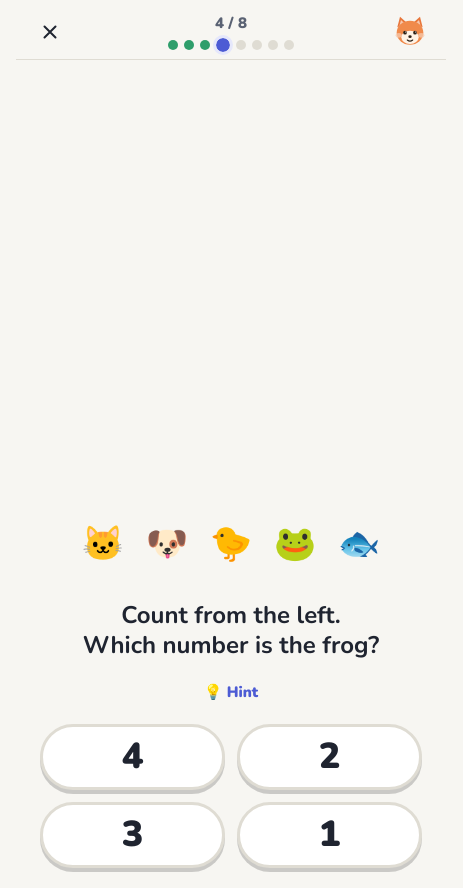
QuestionScreen — Hint harus benar-benar menolong › Hint dari langkah aksi tampil sebagai contoh yang sudah dikerjakan
Click the button "💡 Hint" at (231, 692), box [188, 668, 274, 716]
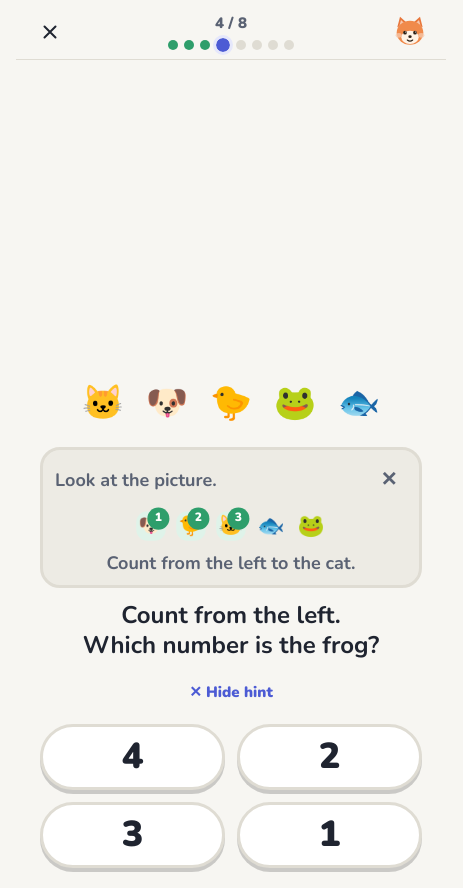
expect the element with id "hint-panel" shows "Count from the left to the cat.": met, box [106, 551, 356, 575]
